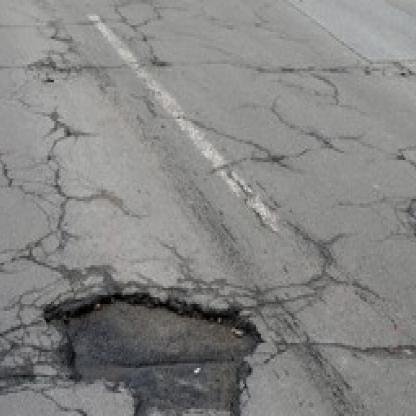pothole: (46, 291, 256, 398)
